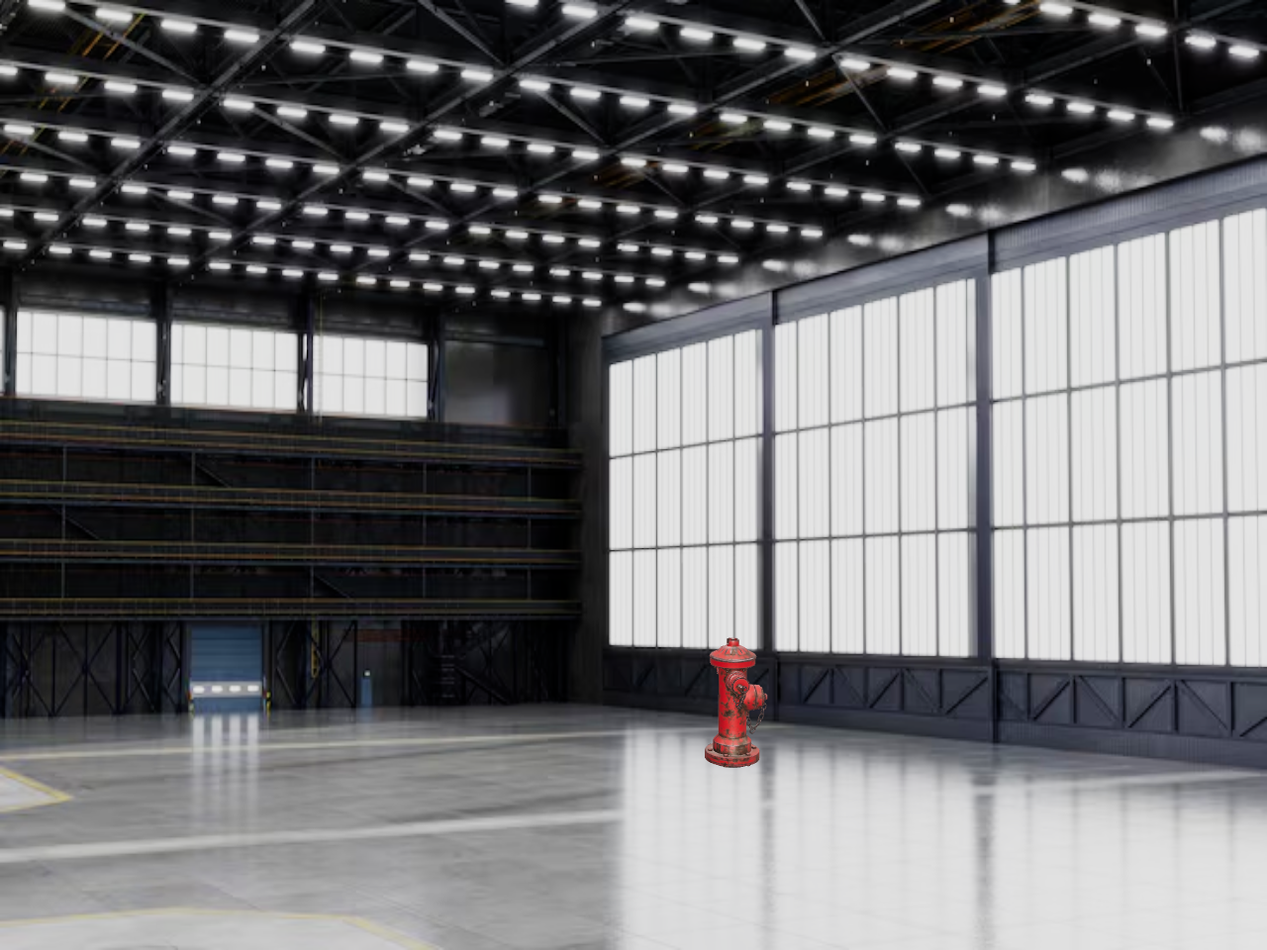ShirAtashNeshani: (705, 638, 768, 768)
